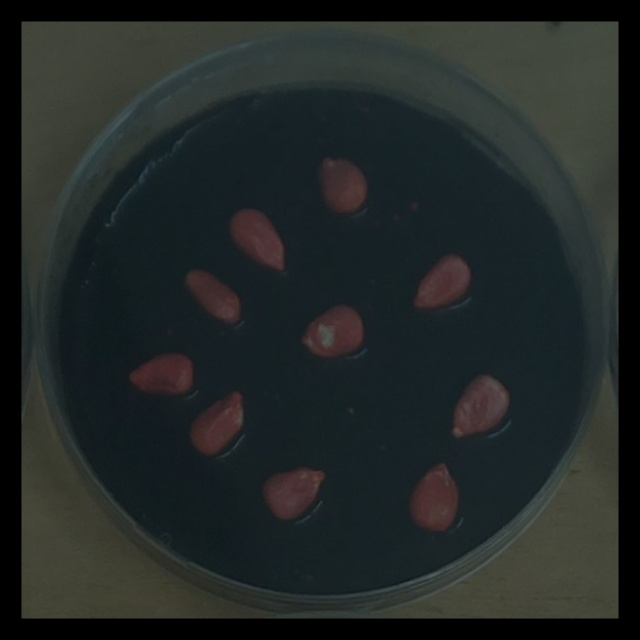Zea mays: (445, 365, 515, 447), (401, 454, 467, 540), (223, 200, 293, 280), (255, 459, 333, 528), (404, 245, 478, 317), (293, 295, 371, 363), (176, 259, 248, 332), (181, 385, 250, 461), (310, 149, 373, 220), (121, 345, 200, 401)
